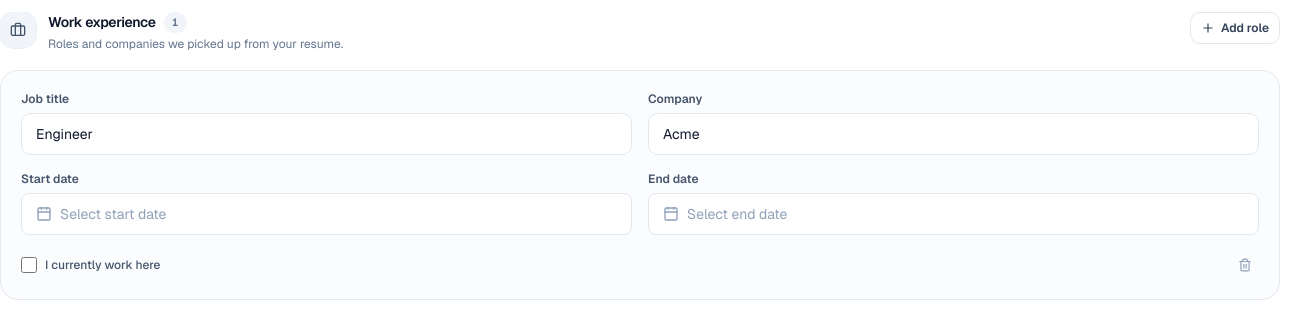
Scenario: WorkExperienceSection › removes an entry through a meaningful accessible name
Click the button named "Remove Engineer at Acme" at [1245, 265], box top-left (1231, 251), bottom-right (1259, 279)
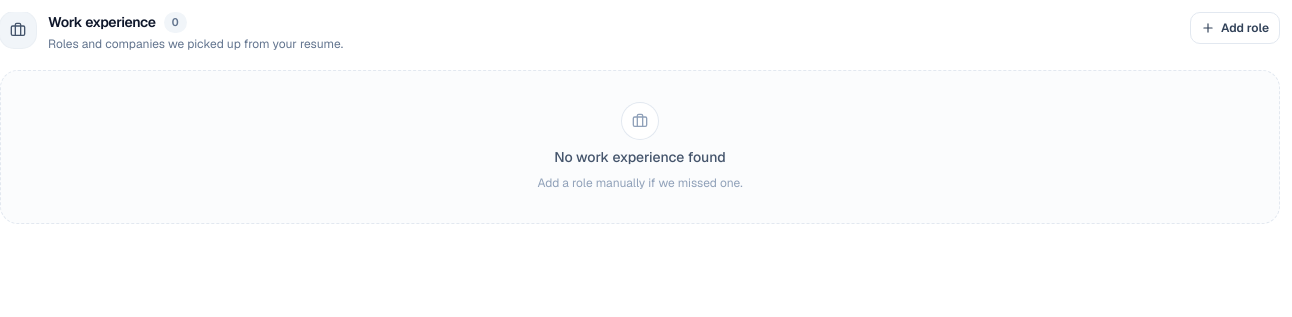
Result: the text "No work experience found" is shown at top-left (554, 147), bottom-right (726, 167)
